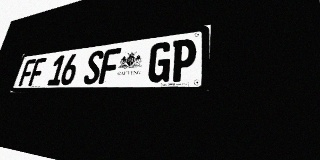1: (47, 55, 67, 85)
6: (59, 53, 80, 85)
F: (98, 48, 121, 84), (28, 57, 47, 86), (18, 59, 36, 86)
G: (146, 41, 173, 83)
P: (169, 38, 197, 82)
S: (82, 50, 105, 84)
